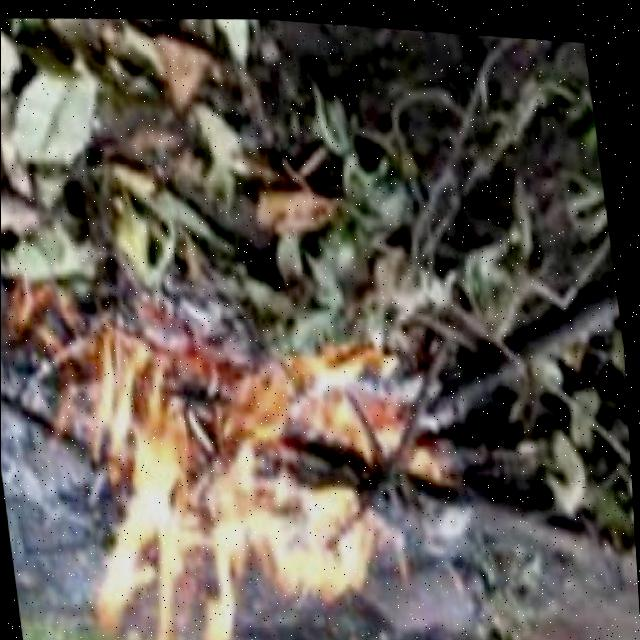fire: (57, 339, 431, 640)
